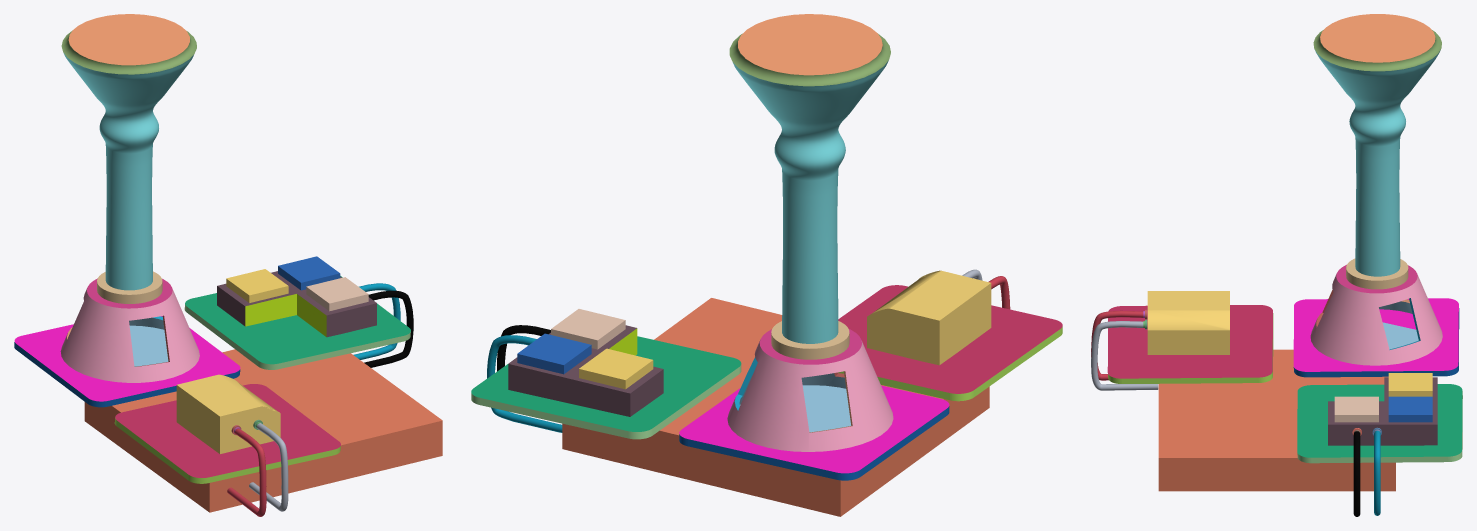
Rendered from aliyun1.obj.
3 views of the same model, side by side, from view 1: azimuth 30°, elevation 25°; view 2: azimuth 150°, elevation 25°; view 3: azimuth 270°, elevation 25° (orthographic). The views are drawn at different scales.
Visible parts, largest first — view 1: 立方体.4, 放样, 圆锥, 封顶_2_7, 封顶_2_5, 立方体, 封顶_1, 封顶_2_6, 立方体.1_9, 立方体.2_1, 圆锥_1, 平滑 (+12 smaller); view 2: 立方体.4, 放样, 圆锥, 立方体, 封顶_2_7, 封顶_2_5, 封顶_1, 封顶_2_6, 立方体.1_9, 圆锥_1, 平滑, 挤压.2 (+8 smaller); view 3: 立方体.4, 放样, 封顶_2_7, 圆锥, 封顶_2_5, 立方体, 封顶_2_6, 封顶_1, 立方体.1_9, 平滑, 立方体.2, 立方体.1_8 (+11 smaller).
Part boxes in pixels (box(x1,y1,x2,y2)): 立方体.4: box(84, 349, 442, 512); 放样: box(63, 53, 193, 290); 圆锥: box(60, 288, 199, 382); 封顶_2_7: box(115, 384, 340, 477); 封顶_2_5: box(185, 276, 410, 364); 立方体: box(176, 374, 280, 453); 封顶_1: box(68, 14, 189, 65); 封顶_2_6: box(14, 316, 240, 401); 立方体.1_9: box(217, 271, 376, 337); 立方体.2_1: box(245, 294, 326, 336); 圆锥_1: box(129, 317, 168, 366); 平滑: box(61, 30, 196, 74); 立方体.4: box(562, 298, 989, 516); 放样: box(732, 60, 888, 343); 圆锥: box(727, 340, 893, 451); 立方体: box(867, 270, 991, 365); 封顶_2_7: box(838, 285, 1062, 393); 封顶_2_5: box(471, 336, 741, 431); 封顶_1: box(738, 14, 882, 75); 封顶_2_6: box(679, 385, 949, 473); 立方体.1_9: box(508, 325, 663, 416); 圆锥_1: box(739, 373, 851, 432); 平滑: box(729, 33, 890, 86); 挤压.2: box(471, 365, 741, 439); 立方体.4: box(1158, 349, 1395, 491); 放样: box(1314, 49, 1440, 276); 封顶_2_7: box(1107, 305, 1272, 378); 圆锥: box(1310, 274, 1442, 365); 封顶_2_5: box(1297, 384, 1462, 457); 立方体: box(1147, 291, 1229, 354); 封顶_2_6: box(1293, 298, 1458, 371); 封顶_1: box(1320, 14, 1435, 62); 立方体.1_9: box(1328, 377, 1437, 445); 平滑: box(1313, 29, 1441, 71); 立方体.2: box(1388, 396, 1432, 422); 立方体.1_8: box(1334, 396, 1378, 422).
Size of what is drawn, in the model's own units: 93.49 by 96.74 by 90.2.
